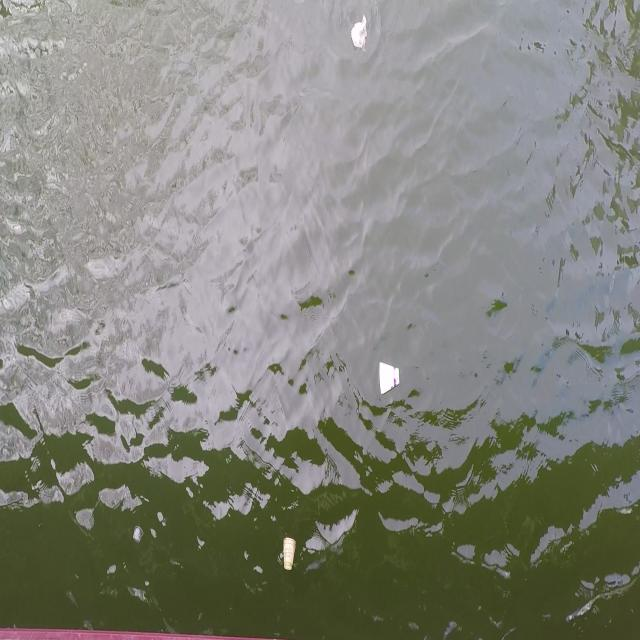Non plastique: (370, 345, 407, 405), (278, 527, 302, 576)
Sac plastique: (348, 9, 373, 56)
